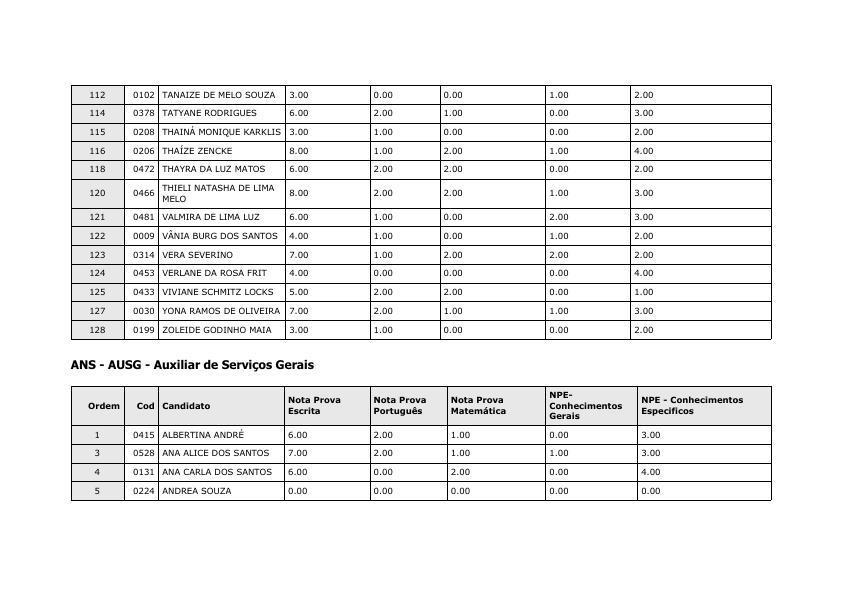table: (65, 82, 774, 346), (66, 384, 779, 508)
text: (68, 354, 318, 373)
